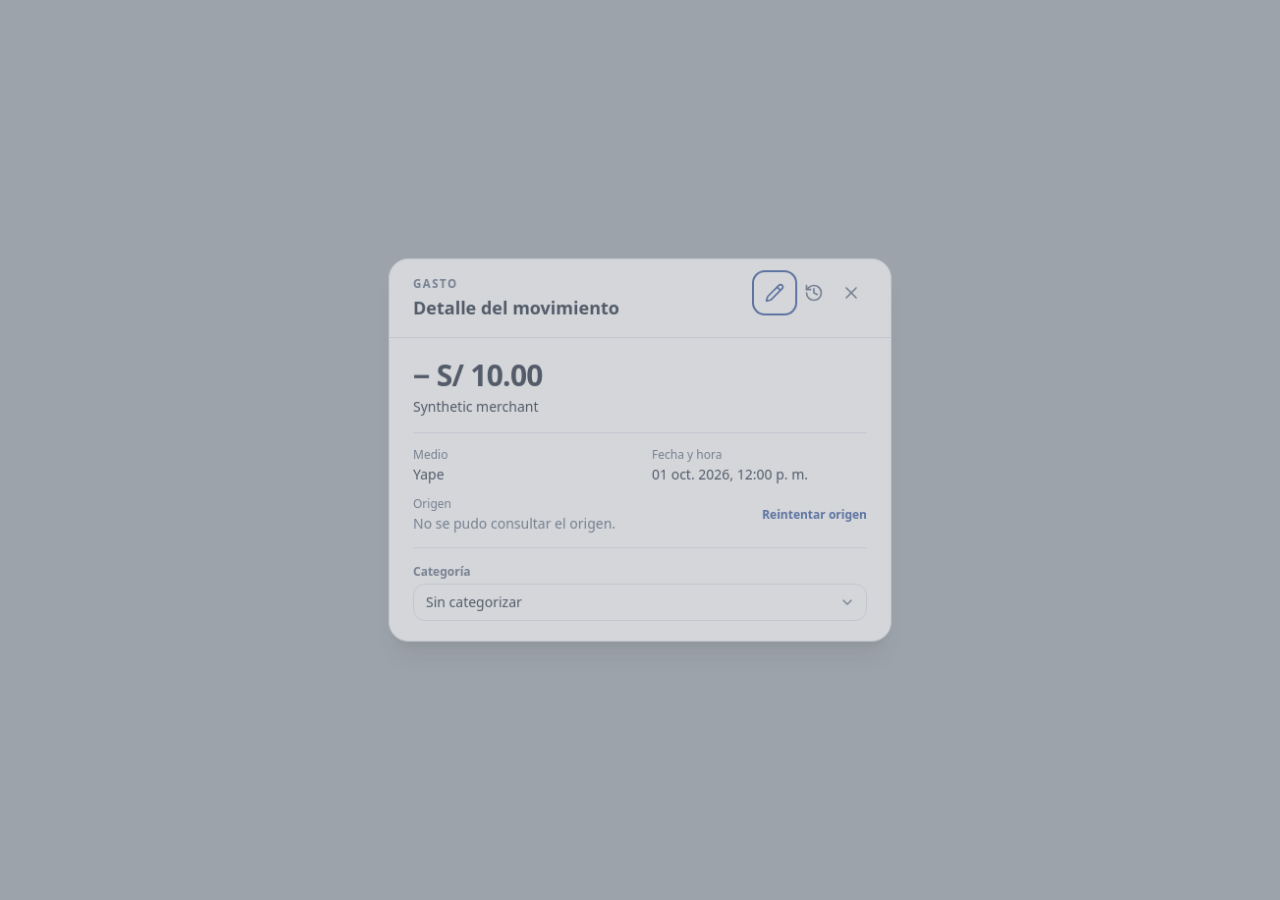
Test case: saves the category classification for a movement
Expected: the button "Guardar cambios" is not shown
Select "Nueva categoría" in the dropdown labelled "Categoría". click: (640, 602)
box: [413, 584, 867, 621]
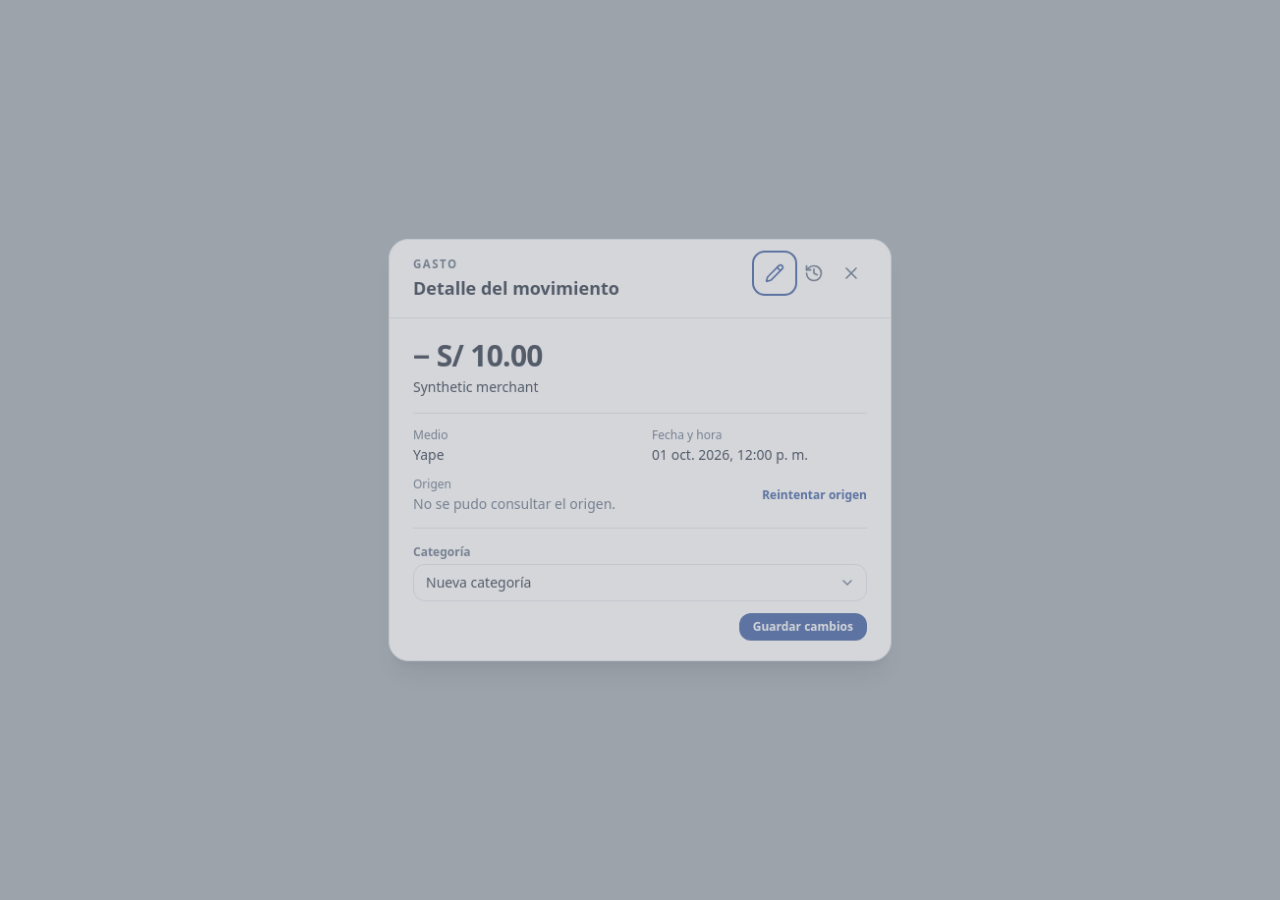
Click the button "Guardar cambios". click: (803, 627)
box: [739, 613, 867, 641]
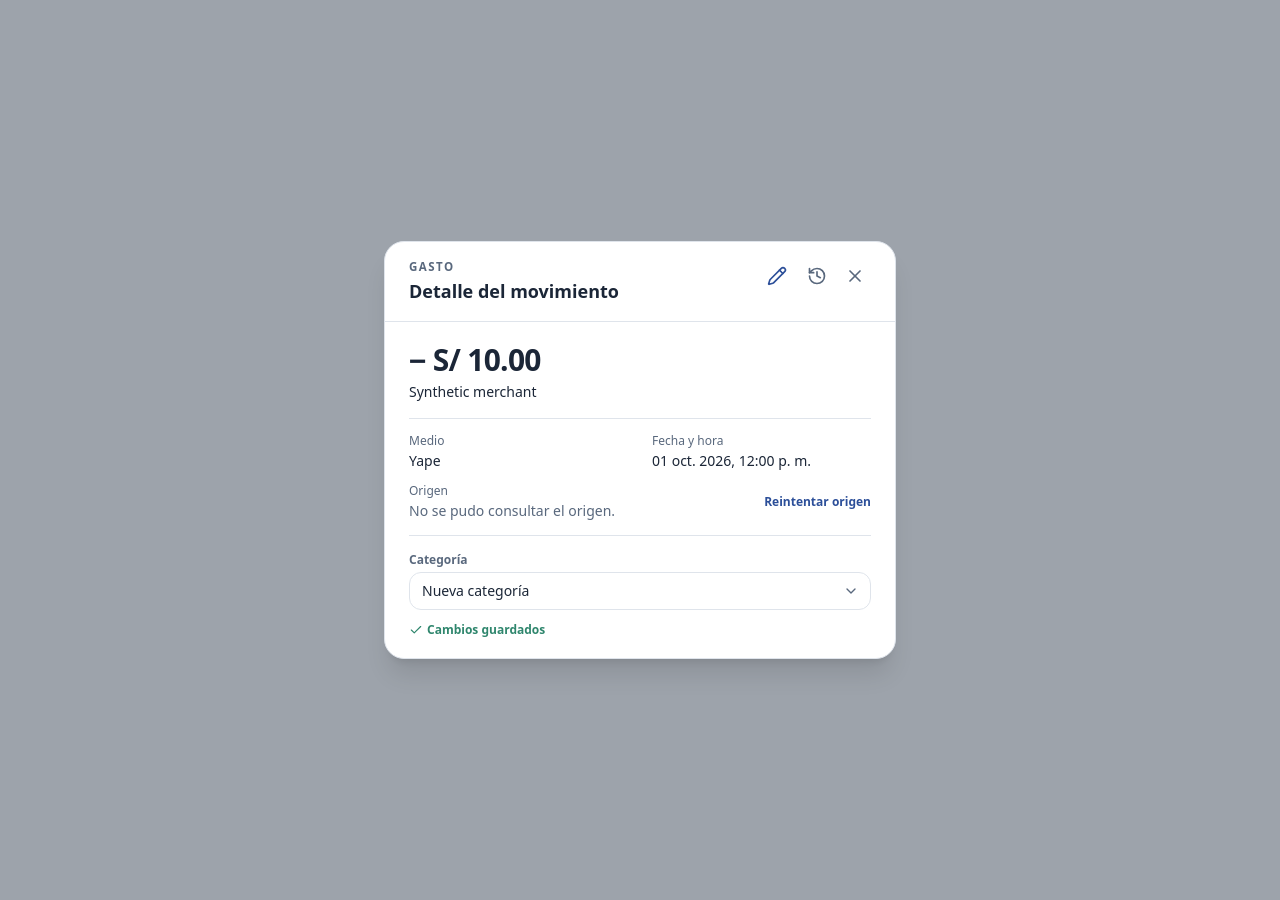
Expected: the text "Cambios guardados" is shown, [409, 622, 545, 638]
Expected: the button "Guardar cambios" is gone
